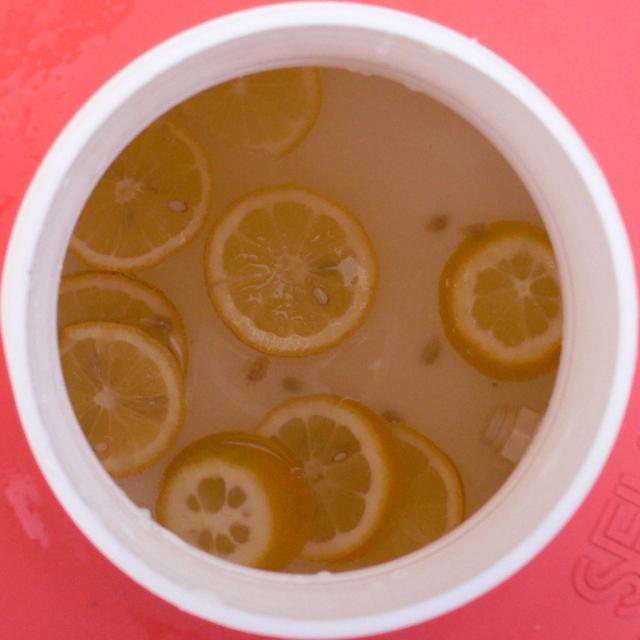Lemon: (158, 394, 462, 565), (202, 190, 382, 361), (58, 272, 185, 473), (440, 213, 567, 384), (70, 122, 212, 272), (181, 73, 317, 160)
